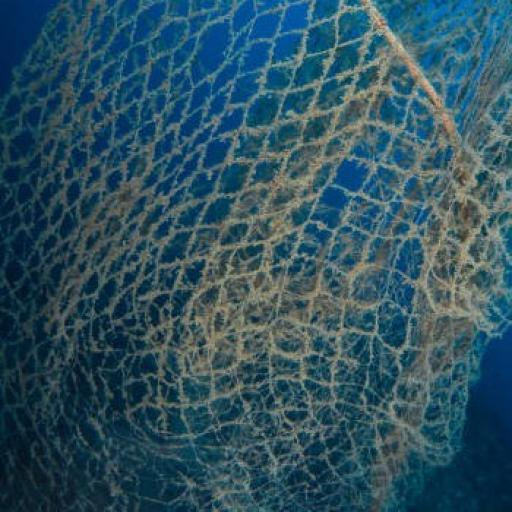net: (4, 0, 506, 509)
